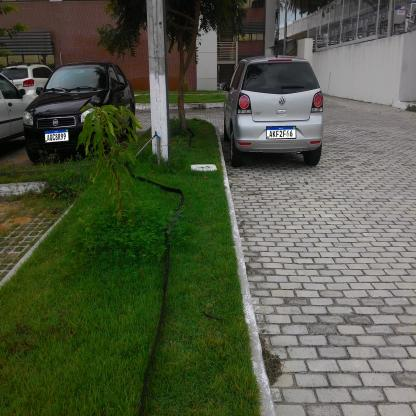PlacaM: (44, 128, 69, 144), (266, 126, 296, 139)
